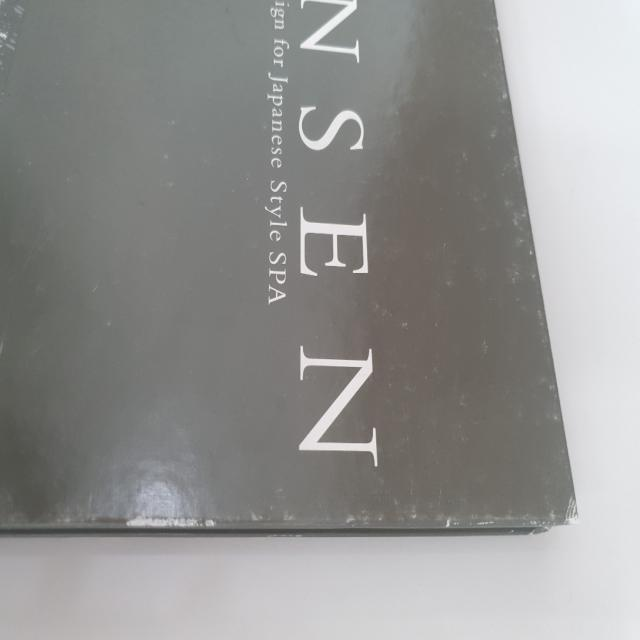Wornout: (121, 500, 224, 537), (555, 487, 588, 534), (436, 503, 461, 540)
